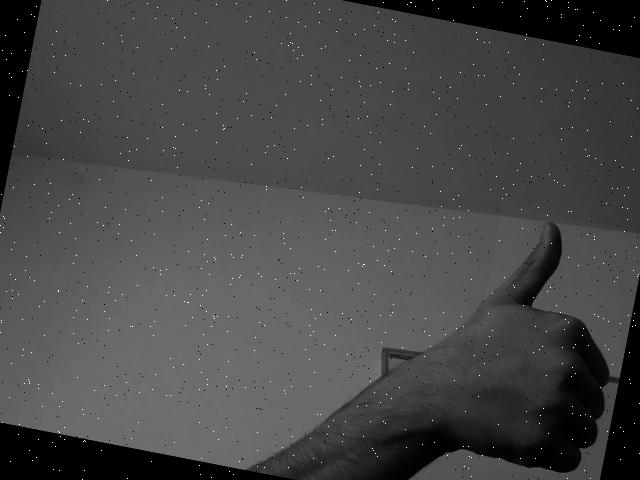good: (452, 204, 640, 480)
